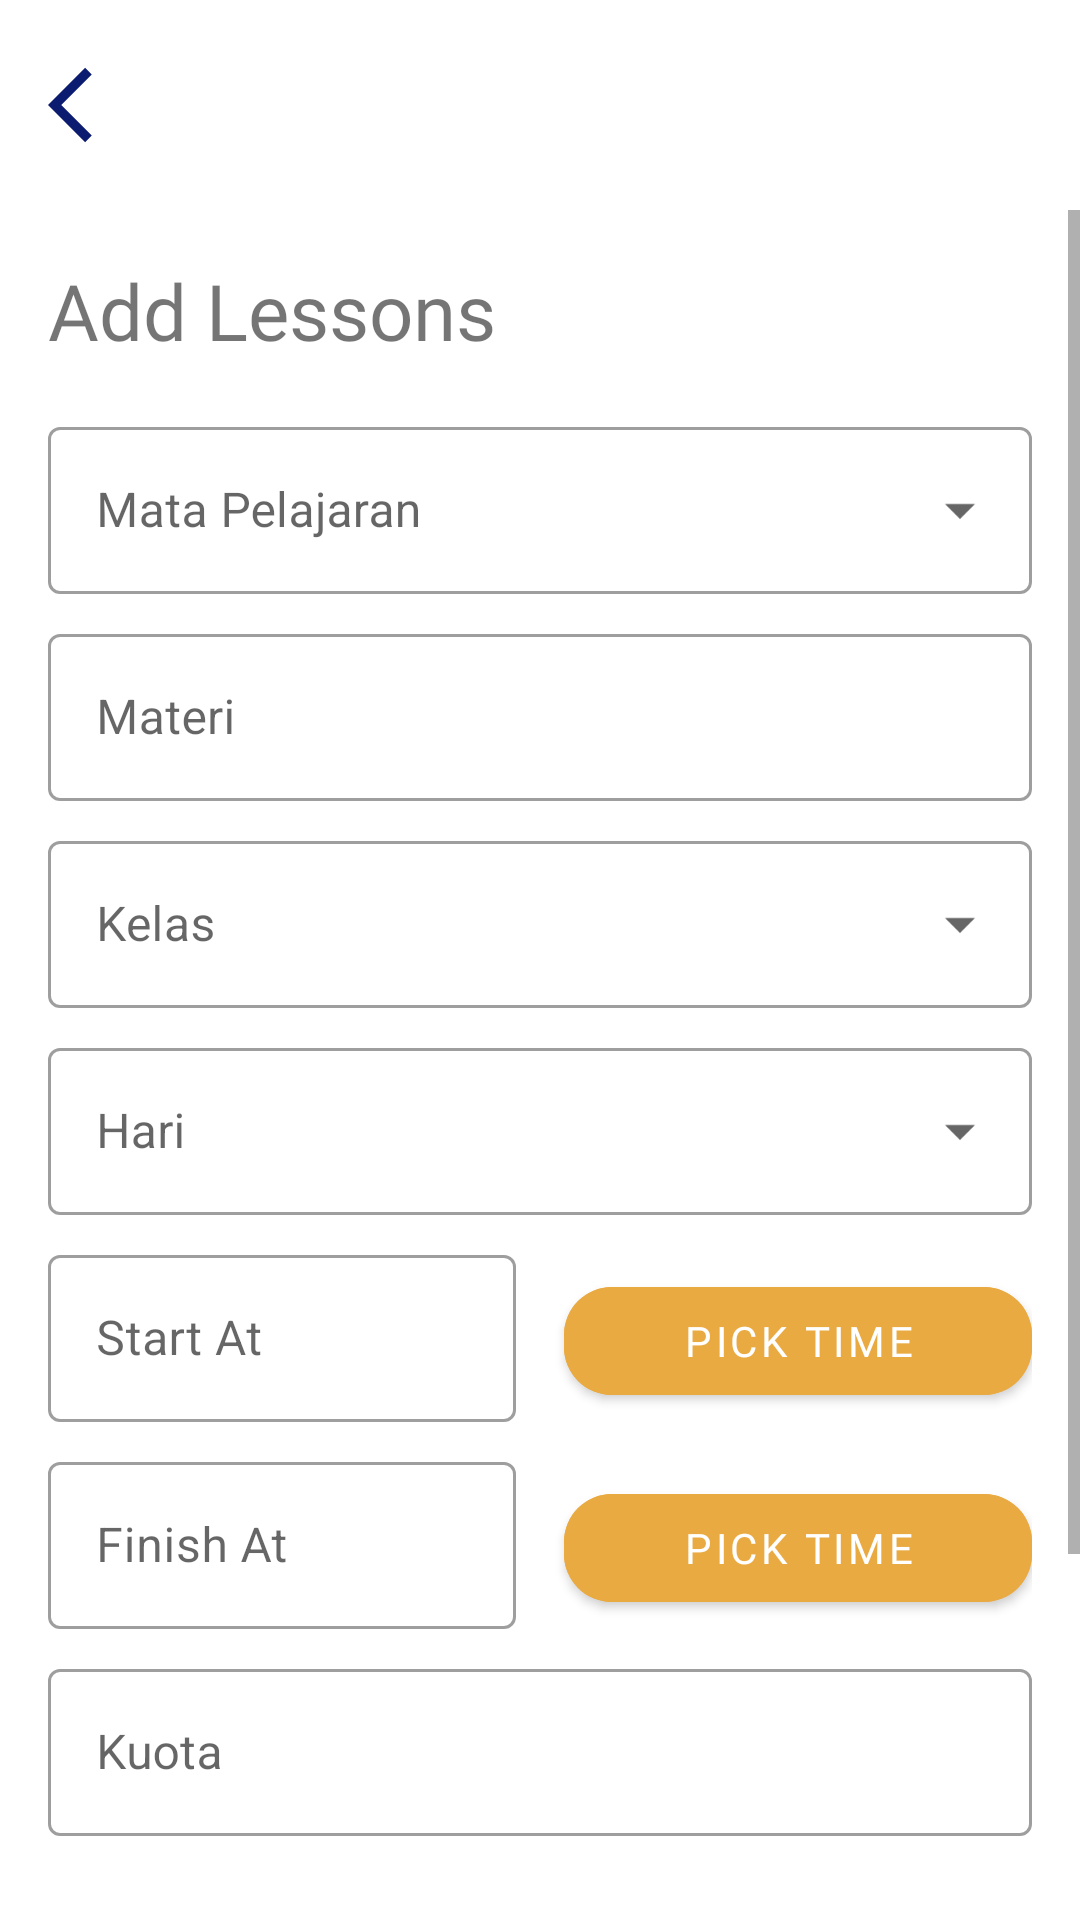

Screen size 1080 x 1920. Icon name, then its center in pixels as point (x, y):
arrow back: point (70, 105)
